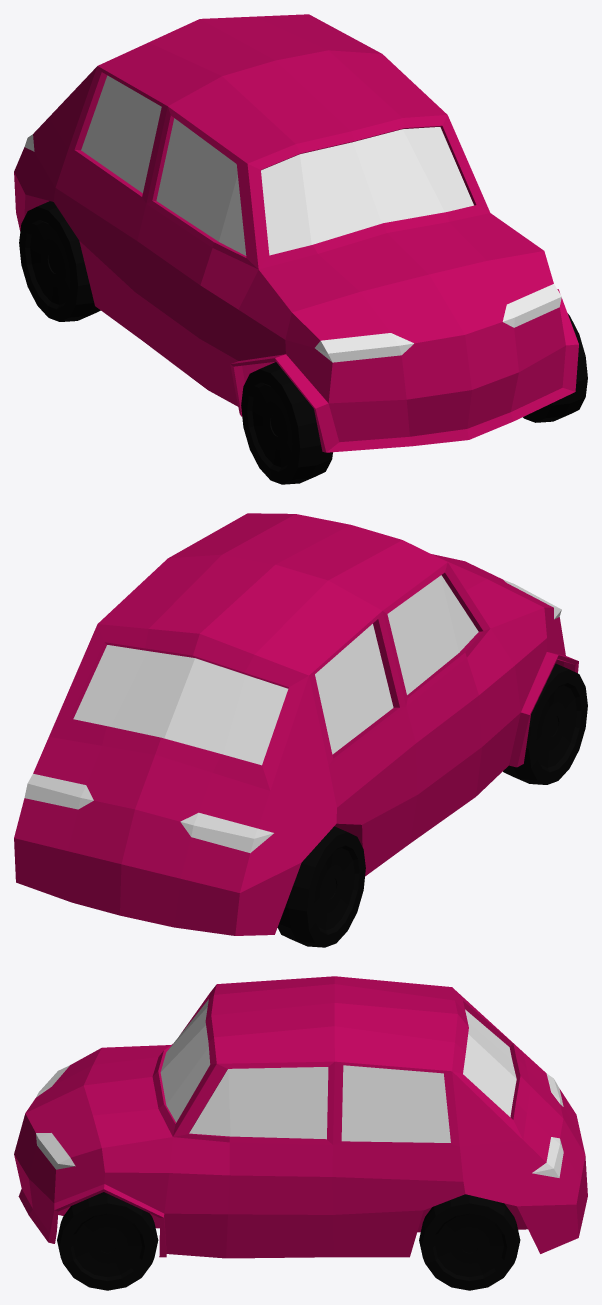
File: car piccola asset.fbx
The picture shows the model from 3 angles, top to bottom: view 1: azimuth 30°, elevation 25°; view 2: azimuth 150°, elevation 25°; view 3: azimuth 270°, elevation 25°; orthographic projection. The views are drawn at different scales.
Visible parts, largest first — view 1: Circle.002; view 2: Circle.002; view 3: Circle.002.
Boxes of the visible parts, x1=… form: Circle.002: x1=14, y1=14, x2=587, y2=484; Circle.002: x1=14, y1=513, x2=587, y2=947; Circle.002: x1=14, y1=976, x2=587, y2=1290.
Bounding box in the file's own units: 309 × 281 × 628.
